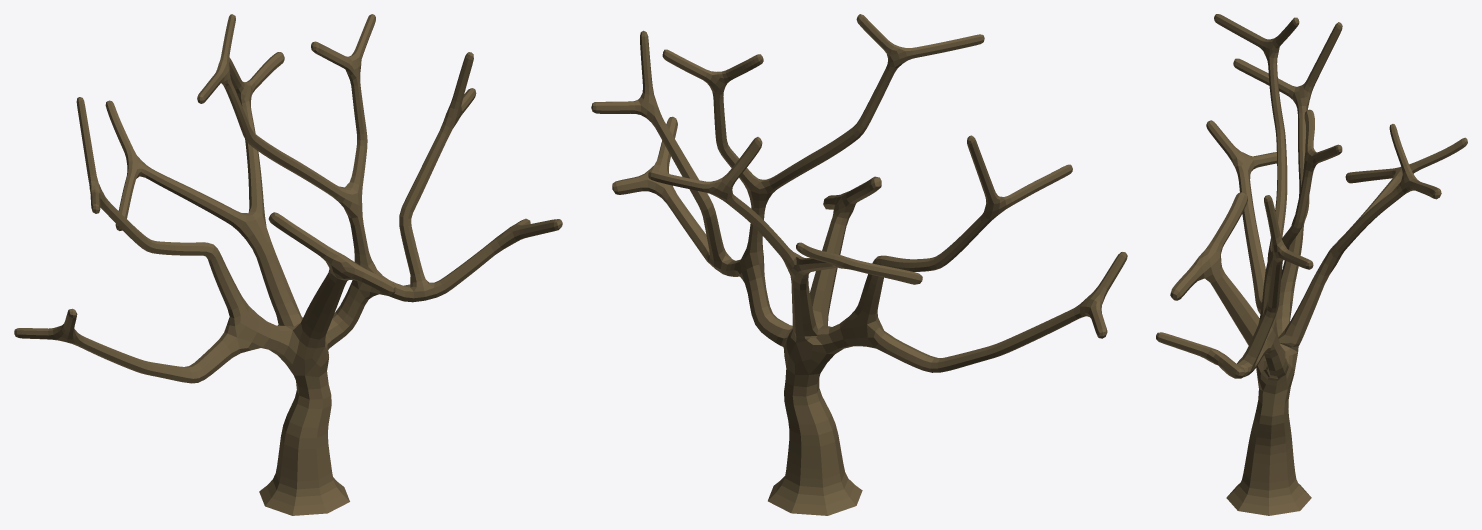
File: tree1_lp.fbx
3 views of the same model, side by side, from view 1: azimuth 30°, elevation 25°; view 2: azimuth 150°, elevation 25°; view 3: azimuth 270°, elevation 25° (orthographic). The views are drawn at different scales.
Parts seen in each view (by area): view 1: Vert; view 2: Vert; view 3: Vert.
Boxes of the visible parts, bbox=[...] form: Vert: bbox=[14, 14, 562, 515]; Vert: bbox=[591, 14, 1127, 515]; Vert: bbox=[1156, 14, 1467, 515].
Size of the model in its own units: 388 by 364 by 227.
